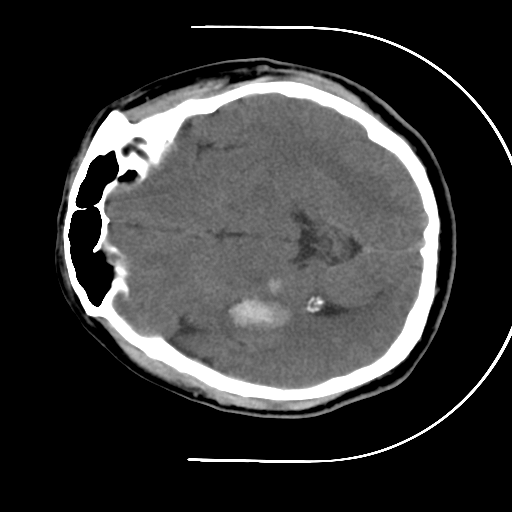a: (207, 287, 301, 347)
